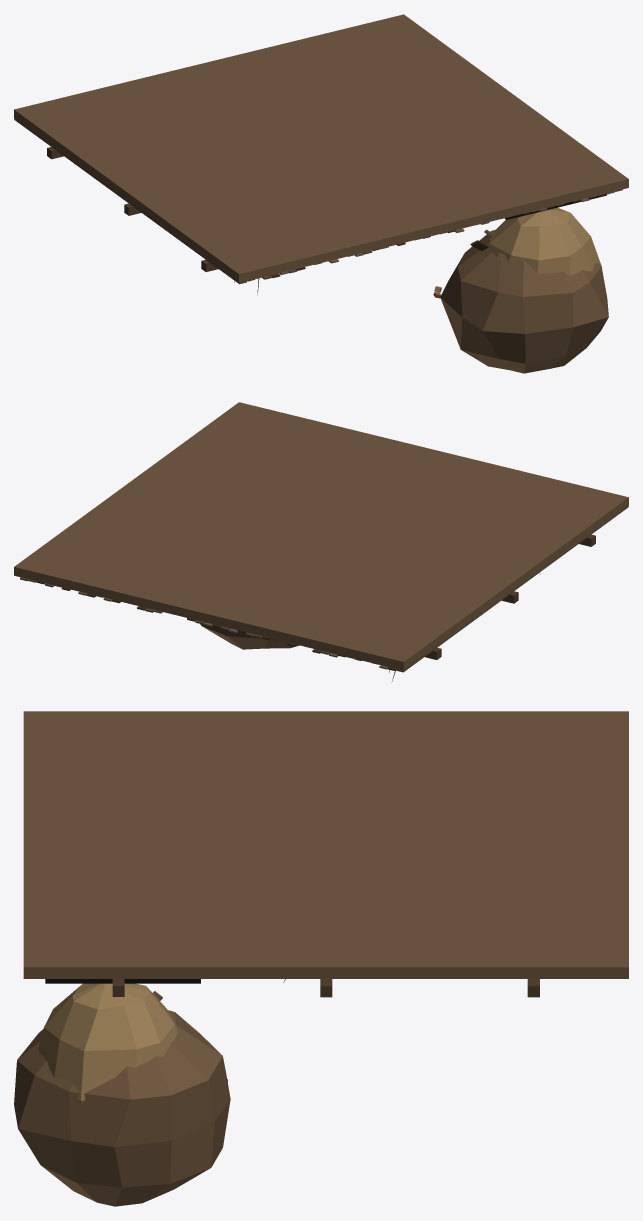
The model's file is TownCeilingCaved.glb.
3 renders of one model, top to bottom at view 1: azimuth 30°, elevation 25°; view 2: azimuth 150°, elevation 25°; view 3: azimuth 270°, elevation 25°, orthographic. The views are drawn at different scales.
Visible parts, largest first — view 1: TownCeilingCaved.001; view 2: TownCeilingCaved.001; view 3: TownCeilingCaved.001.
Boxes of the visible parts, x1,y1,x2,y2 form: TownCeilingCaved.001: [14, 14, 628, 373]; TownCeilingCaved.001: [14, 402, 628, 682]; TownCeilingCaved.001: [14, 711, 628, 1206].
Bounding box in the file's own units: 14.21 × 6.8 × 14.22.
